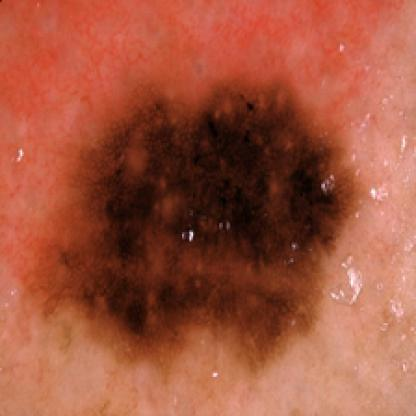malignant: (69, 89, 362, 364)
